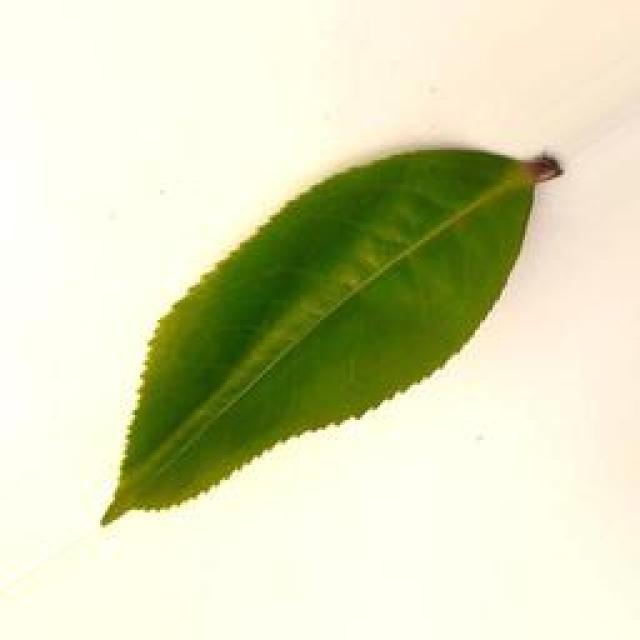Healthy: (99, 136, 579, 530)
